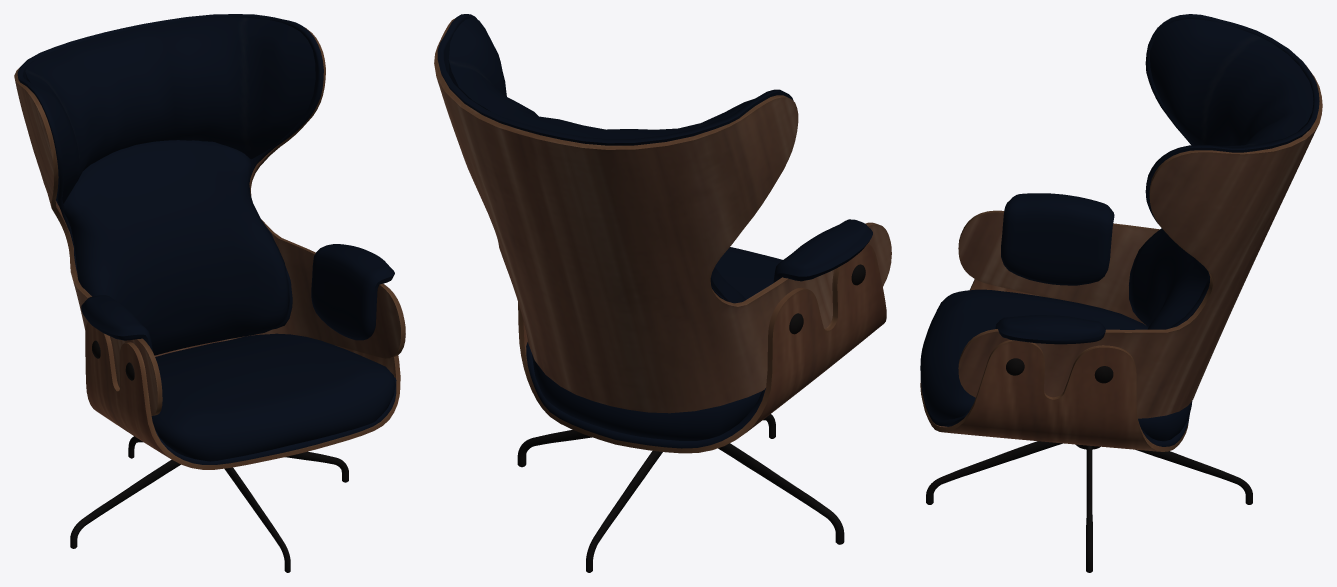
File: lounger-armchair-e9d9d8.glb
3 renders of one model, left to right at view 1: azimuth 30°, elevation 25°; view 2: azimuth 150°, elevation 25°; view 3: azimuth 270°, elevation 25°, orthographic. The views are drawn at different scales.
Parts seen in each view (by area): view 1: PropMesh; view 2: PropMesh; view 3: PropMesh.
Boxes of the visible parts, <box> form: PropMesh: <box>14,14,405,572</box>; PropMesh: <box>434,14,891,572</box>; PropMesh: <box>920,14,1322,572</box>.
Size of the model in its own units: 0.7919 by 1.1 by 0.9365.
Materials: 1 (1 with a texture image).
